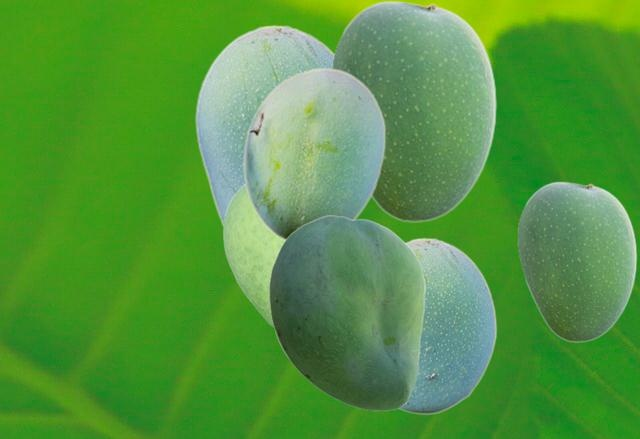green_mango: (331, 0, 496, 221), (269, 215, 424, 410), (194, 24, 332, 228), (242, 67, 385, 240), (517, 181, 636, 341), (397, 237, 496, 414), (223, 185, 282, 326)
